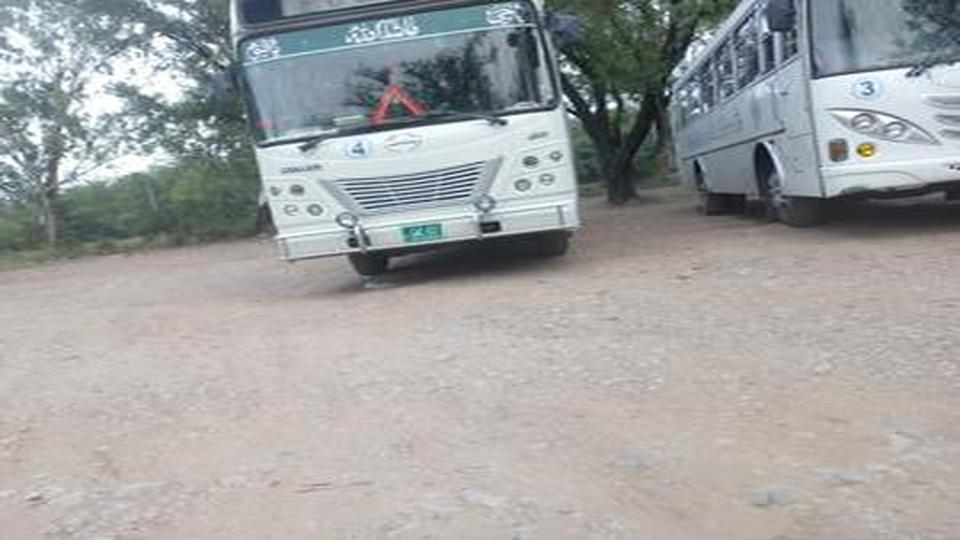NumberPlate: (398, 223, 441, 243)
